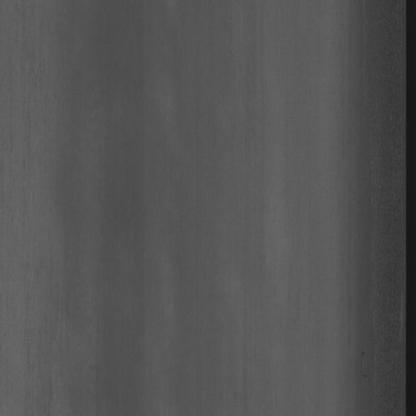silk_spot: (10, 16, 69, 404)
